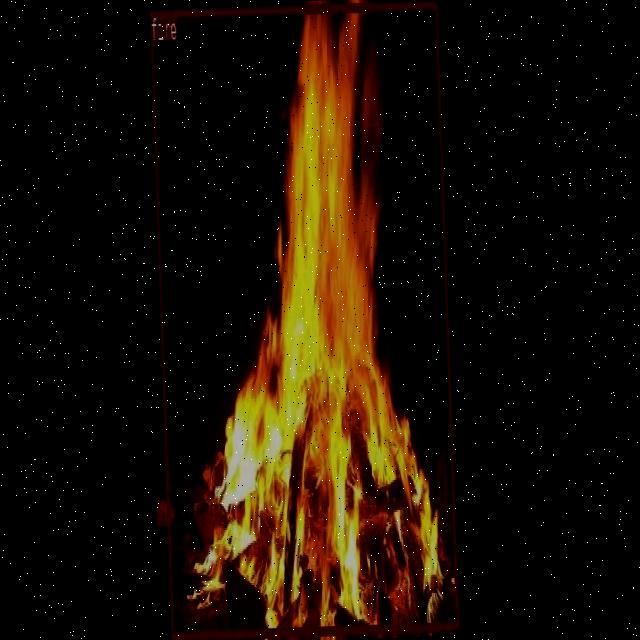fire: (148, 0, 458, 639)
